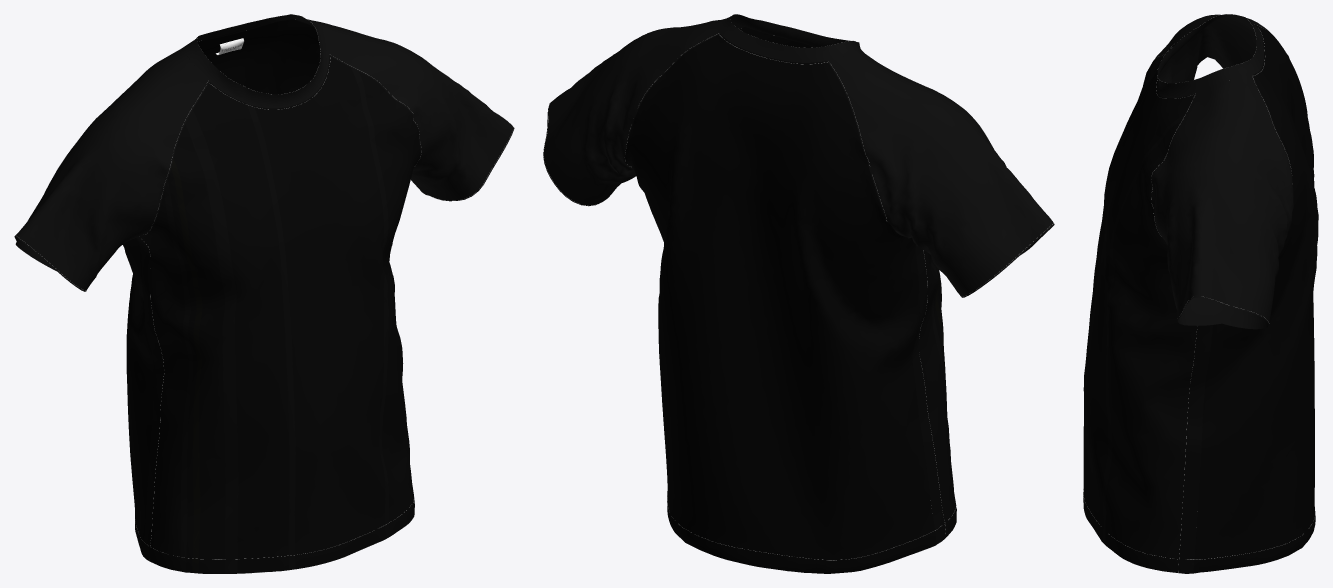
File: t-shirt-sports-transformed.glb
3 renders of one model, left to right at view 1: azimuth 30°, elevation 25°; view 2: azimuth 150°, elevation 25°; view 3: azimuth 270°, elevation 25°, orthographic. The views are drawn at different scales.
Visible parts, largest first — view 1: Object_111, Object_123, Object_113, Object_121; view 2: Object_113, Object_123, Object_111, Object_121; view 3: Object_111, Object_113, Object_123, Object_121.
Part boxes in pixels (<box>): Object_111: <box>136,55,420,573</box>; Object_123: <box>14,19,514,291</box>; Object_113: <box>123,19,320,556</box>; Object_121: <box>184,14,329,108</box>; Object_113: <box>625,34,936,573</box>; Object_123: <box>543,20,1054,297</box>; Object_111: <box>739,27,956,571</box>; Object_121: <box>717,14,863,62</box>; Object_111: <box>1083,43,1212,573</box>; Object_113: <box>1193,25,1318,573</box>; Object_123: <box>1150,14,1293,329</box>; Object_121: <box>1157,14,1263,97</box>.
Bounding box in the file's own units: 0.6858 × 0.6502 × 0.2894.
7 materials, 4 textured.
